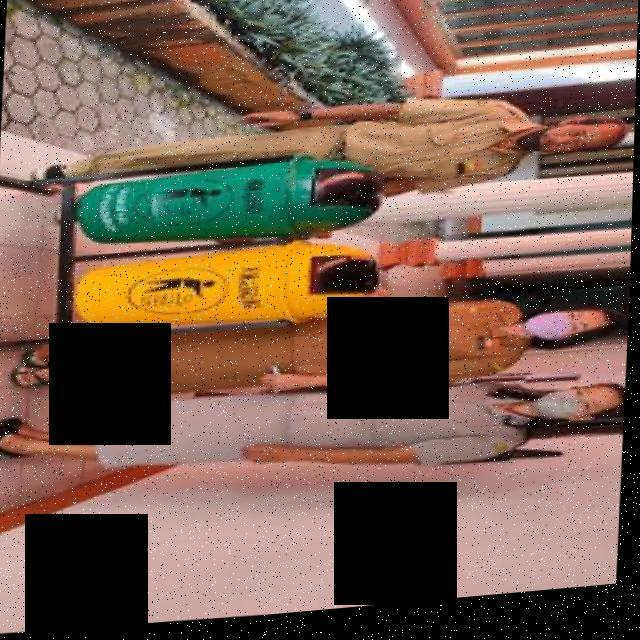bin: (55, 232, 391, 351), (65, 146, 394, 263)
